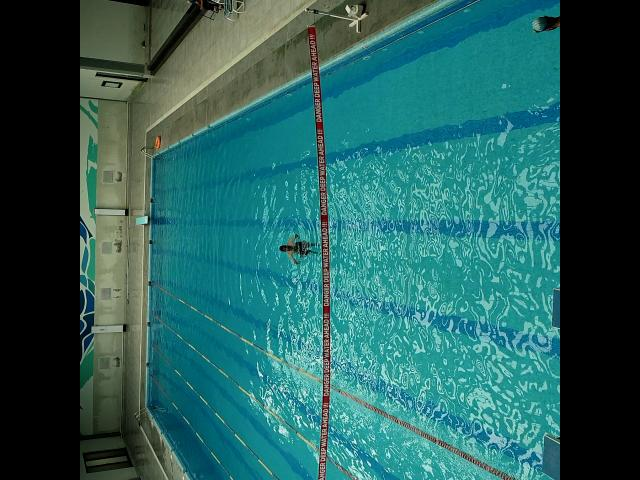out of water: (177, 0, 219, 15)
swimming: (279, 232, 322, 265), (531, 8, 560, 34)
